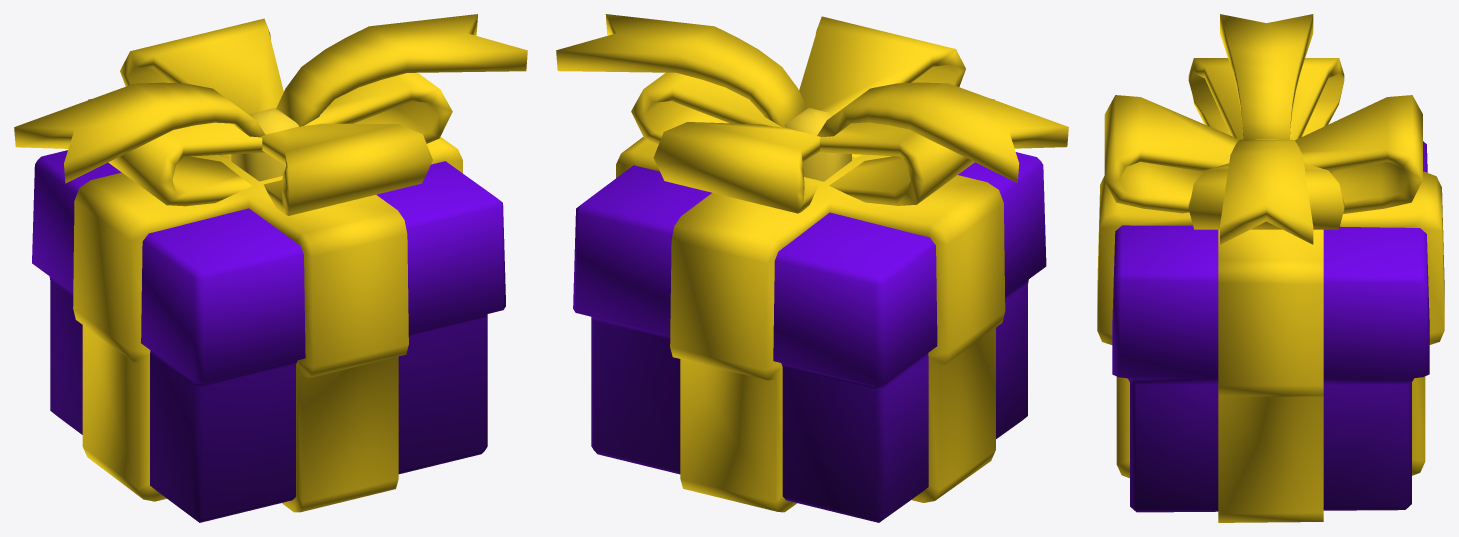
Rendered from Collectable_Gift_Box_01.fbx.
3 views of the same model, side by side, from view 1: azimuth 30°, elevation 25°; view 2: azimuth 150°, elevation 25°; view 3: azimuth 270°, elevation 25° (orthographic). The views are drawn at different scales.
Visible parts, largest first — view 1: Collectable_Gift_Box_01; view 2: Collectable_Gift_Box_01; view 3: Collectable_Gift_Box_01.
Part boxes in pixels (box(x1,y1,x2,y2)): Collectable_Gift_Box_01: box(14, 14, 527, 522); Collectable_Gift_Box_01: box(556, 14, 1068, 522); Collectable_Gift_Box_01: box(1097, 14, 1444, 522).
Bounding box in the file's own units: 104 × 81.1 × 71.65.
